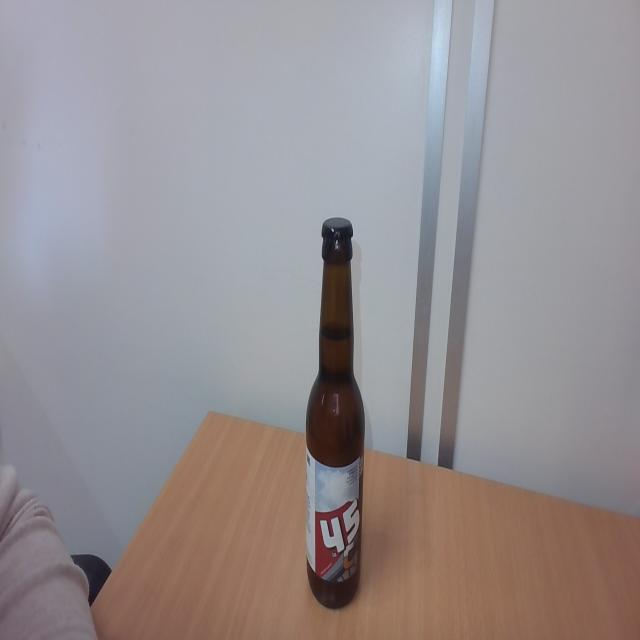Bottle: (306, 244, 364, 610)
Cap: (321, 216, 355, 242)
Label: (307, 456, 362, 582)
